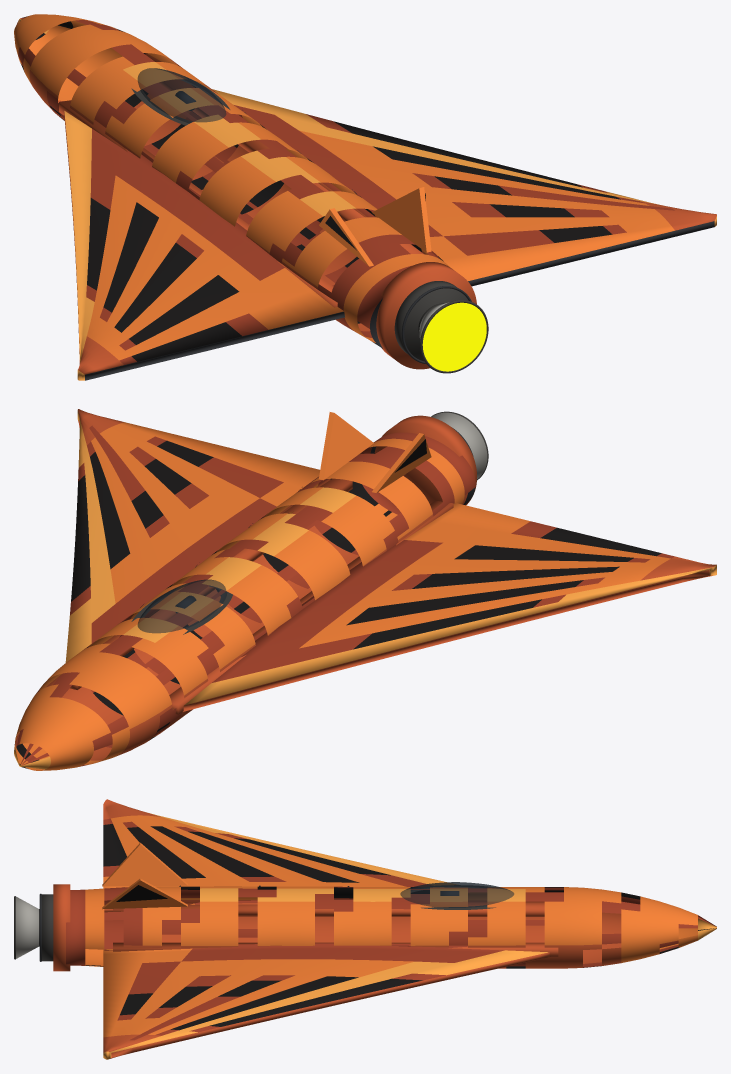
File: Ship_TigerWing_10.glb
3 renders of one model, top to bottom at view 1: azimuth 30°, elevation 25°; view 2: azimuth 150°, elevation 25°; view 3: azimuth 270°, elevation 25°, orthographic. The views are drawn at different scales.
Parts seen in each view (by area): view 1: Fuselage_OrganicEllipsoidTaperedBody_BakedPaint, Wing_Left_LongDeltaAerofoil_BakedPaint, Wing_Right_LongDeltaAerofoil_BakedPaint, EngineEmitter, AftCollar_IntegratedSingleEngineBand, CanopyGlass_LowInsetDome, EngineBlock_AftDarkSingleEngineHousing, TailFin_Right_CantedStabilizer, WingRoot_Left_EmbeddedShoulder, WingRoot_Right_EmbeddedShoulder, TailFin_Left_CantedStabilizer, CanopyFrame_DorsalOvalRim (+1 smaller); view 2: Fuselage_OrganicEllipsoidTaperedBody_BakedPaint, Wing_Left_LongDeltaAerofoil_BakedPaint, Wing_Right_LongDeltaAerofoil_BakedPaint, CanopyGlass_LowInsetDome, AftCollar_IntegratedSingleEngineBand, TailFin_Right_CantedStabilizer, WingRoot_Left_EmbeddedShoulder, EngineBell_Center_BroadBurnishedNozzle, WingRoot_Right_EmbeddedShoulder, TailFin_Left_CantedStabilizer, CanopyFrame_DorsalOvalRim; view 3: Fuselage_OrganicEllipsoidTaperedBody_BakedPaint, Wing_Right_LongDeltaAerofoil_BakedPaint, Wing_Left_LongDeltaAerofoil_BakedPaint, CanopyGlass_LowInsetDome, TailFin_Left_CantedStabilizer, AftCollar_IntegratedSingleEngineBand, WingRoot_Left_EmbeddedShoulder, EngineBell_Center_BroadBurnishedNozzle, WingRoot_Right_EmbeddedShoulder, TailFin_Right_CantedStabilizer, EngineBlock_AftDarkSingleEngineHousing, TailFin_Right_BakedTrimPatch.
Boxes of the visible parts, x1=… form: Fuselage_OrganicEllipsoidTaperedBody_BakedPaint: x1=14, y1=14, x2=449, y2=348; Wing_Left_LongDeltaAerofoil_BakedPaint: x1=64, y1=111, x2=344, y2=380; Wing_Right_LongDeltaAerofoil_BakedPaint: x1=212, y1=89, x2=716, y2=286; EngineEmitter: x1=422, y1=302, x2=486, y2=371; AftCollar_IntegratedSingleEngineBand: x1=376, y1=262, x2=476, y2=369; CanopyGlass_LowInsetDome: x1=137, y1=68, x2=226, y2=123; EngineBlock_AftDarkSingleEngineHousing: x1=394, y1=281, x2=468, y2=361; TailFin_Right_CantedStabilizer: x1=372, y1=187, x2=431, y2=252; WingRoot_Left_EmbeddedShoulder: x1=59, y1=100, x2=337, y2=307; WingRoot_Right_EmbeddedShoulder: x1=160, y1=79, x2=423, y2=254; TailFin_Left_CantedStabilizer: x1=319, y1=208, x2=373, y2=266; CanopyFrame_DorsalOvalRim: x1=131, y1=77, x2=230, y2=125; Fuselage_OrganicEllipsoidTaperedBody_BakedPaint: x1=14, y1=432, x2=475, y2=770; Wing_Left_LongDeltaAerofoil_BakedPaint: x1=172, y1=503, x2=716, y2=711; Wing_Right_LongDeltaAerofoil_BakedPaint: x1=65, y1=409, x2=320, y2=662; CanopyGlass_LowInsetDome: x1=137, y1=579, x2=227, y2=633; AftCollar_IntegratedSingleEngineBand: x1=374, y1=415, x2=476, y2=505; TailFin_Right_CantedStabilizer: x1=319, y1=412, x2=373, y2=480; WingRoot_Left_EmbeddedShoulder: x1=169, y1=500, x2=453, y2=714; EngineBell_Center_BroadBurnishedNozzle: x1=431, y1=412, x2=487, y2=479; WingRoot_Right_EmbeddedShoulder: x1=70, y1=478, x2=352, y2=689; TailFin_Left_CantedStabilizer: x1=372, y1=433, x2=431, y2=493; CanopyFrame_DorsalOvalRim: x1=131, y1=586, x2=232, y2=634; Fuselage_OrganicEllipsoidTaperedBody_BakedPaint: x1=66, y1=886, x2=716, y2=968; Wing_Right_LongDeltaAerofoil_BakedPaint: x1=103, y1=943, x2=550, y2=1059; Wing_Left_LongDeltaAerofoil_BakedPaint: x1=103, y1=799, x2=472, y2=912; CanopyGlass_LowInsetDome: x1=400, y1=882, x2=513, y2=907; TailFin_Left_CantedStabilizer: x1=102, y1=842, x2=187, y2=886; AftCollar_IntegratedSingleEngineBand: x1=53, y1=884, x2=70, y2=971; WingRoot_Left_EmbeddedShoulder: x1=113, y1=901, x2=544, y2=916; EngineBell_Center_BroadBurnishedNozzle: x1=16, y1=896, x2=38, y2=958; WingRoot_Right_EmbeddedShoulder: x1=113, y1=942, x2=558, y2=956; TailFin_Right_CantedStabilizer: x1=102, y1=878, x2=187, y2=909; EngineBlock_AftDarkSingleEngineHousing: x1=41, y1=894, x2=53, y2=961; TailFin_Right_BakedTrimPatch: x1=116, y1=885, x2=167, y2=901.
Bounding box in the file's own units: 6.75 × 1.32 × 7.95.
